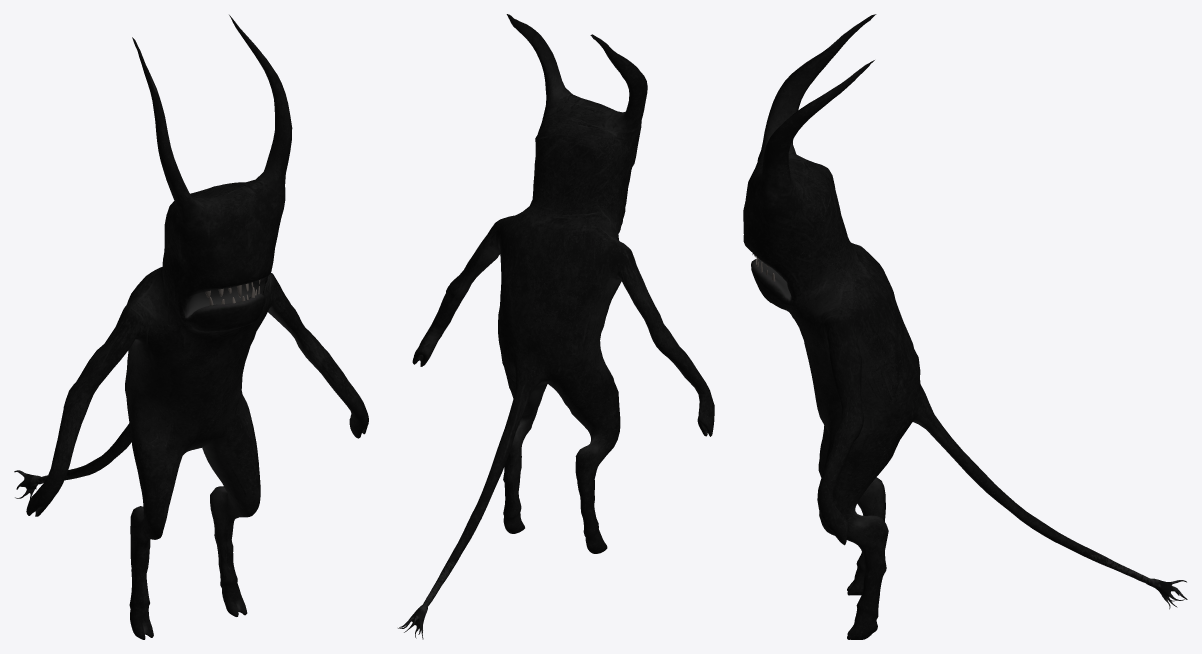
File: Onyx_Minotaur.obj
3 renders of one model, left to right at view 1: azimuth 30°, elevation 25°; view 2: azimuth 150°, elevation 25°; view 3: azimuth 270°, elevation 25°, orthographic. The views are drawn at different scales.
Visible parts, largest first — view 1: SK_OnyxMinotaur.mo_SK_OnyxMinotaur.md; view 2: SK_OnyxMinotaur.mo_SK_OnyxMinotaur.md; view 3: SK_OnyxMinotaur.mo_SK_OnyxMinotaur.md.
Part boxes in pixels (x1=…): SK_OnyxMinotaur.mo_SK_OnyxMinotaur.md: x1=14, y1=15, x2=368, y2=639; SK_OnyxMinotaur.mo_SK_OnyxMinotaur.md: x1=398, y1=14, x2=714, y2=639; SK_OnyxMinotaur.mo_SK_OnyxMinotaur.md: x1=743, y1=14, x2=1187, y2=639.
Bounding box in the file's own units: 127 × 212 × 148.
Materials: 1 (1 with a texture image).
